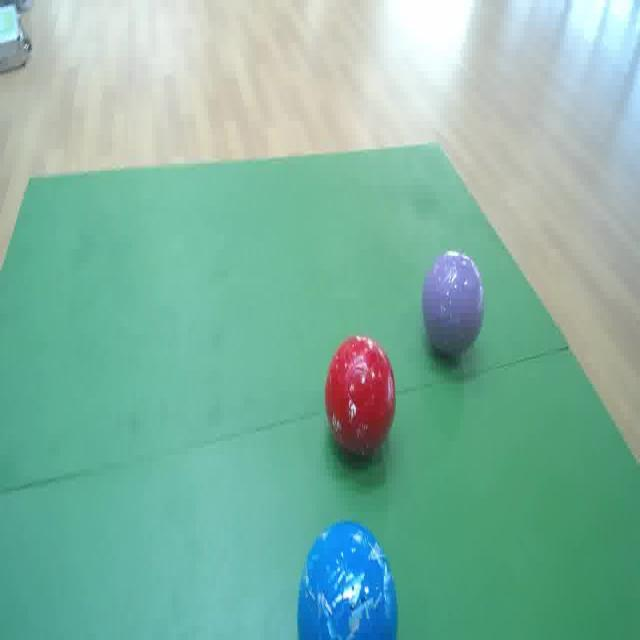blue_ball: (298, 520, 396, 640)
purple_ball: (423, 248, 482, 363)
red_ball: (325, 334, 397, 460)
